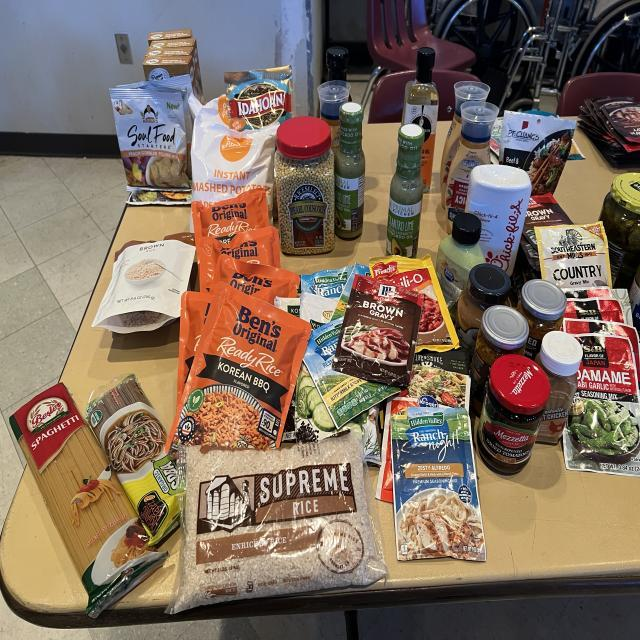Condiment: (465, 165, 531, 275), (445, 102, 498, 235), (440, 82, 490, 207), (402, 47, 439, 193), (386, 123, 425, 258), (456, 263, 510, 355), (335, 102, 365, 240), (436, 212, 485, 295), (318, 80, 350, 153)
Grains: (275, 117, 335, 255)
Noodles: (10, 383, 169, 617), (86, 375, 179, 545), (92, 240, 195, 333)
Pickled Food -Jar-: (476, 353, 550, 475), (471, 305, 529, 413), (535, 330, 582, 445), (599, 172, 640, 288), (518, 280, 566, 360), (629, 265, 640, 335)
Potatoes -Package-: (191, 98, 279, 220), (224, 65, 292, 132)
Rice: (168, 433, 388, 613), (165, 282, 311, 455), (196, 227, 280, 292), (210, 255, 300, 305), (191, 188, 270, 242), (176, 292, 212, 408)
Seasoning -Thin Package-: (390, 400, 486, 562), (564, 333, 640, 475), (304, 317, 400, 428), (332, 275, 424, 387), (110, 75, 192, 193), (370, 255, 459, 352), (110, 83, 190, 190), (499, 112, 576, 195), (562, 318, 640, 383), (535, 222, 611, 288), (579, 97, 640, 167), (564, 290, 632, 327), (522, 193, 572, 235), (301, 267, 352, 298), (601, 103, 640, 143), (414, 348, 470, 375), (300, 292, 339, 330)
